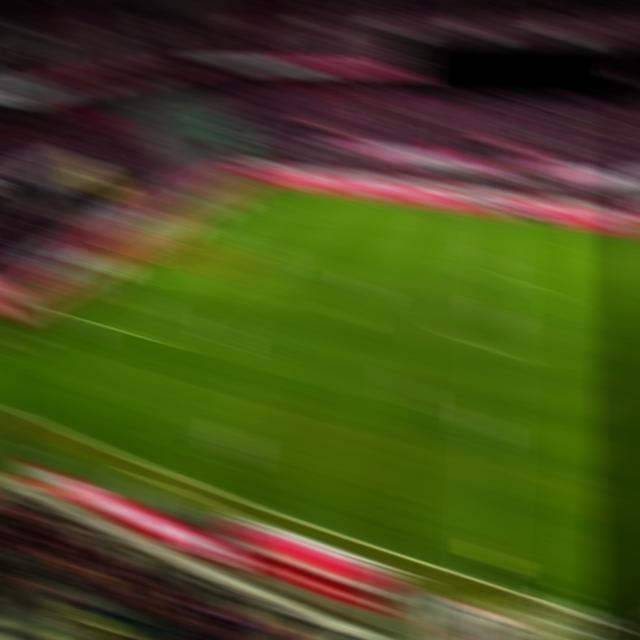bigarea_bottom_inner: (137, 329, 170, 347)
bigarea_bottom_outter: (33, 302, 67, 320)
bigarea_top_inner: (278, 205, 311, 222)
bigarea_top_outter: (199, 196, 233, 213)
bottom_arc_area_intersection: (198, 275, 231, 293)
corner: (232, 176, 266, 194)
halfcircle_bottom: (480, 343, 515, 360)
halfcircle_top: (485, 265, 518, 283)
midline_bottom_intersection: (463, 569, 503, 594)
midline_top_intersection: (487, 208, 520, 226)
smallarea_bottom_inner: (123, 267, 157, 284)
smallarea_bottom_outter: (92, 263, 129, 280)
smallarea_top_inner: (192, 221, 225, 238)
smallarea_top_outter: (165, 216, 199, 234)
top_arc_area_intersection: (246, 234, 280, 252)
